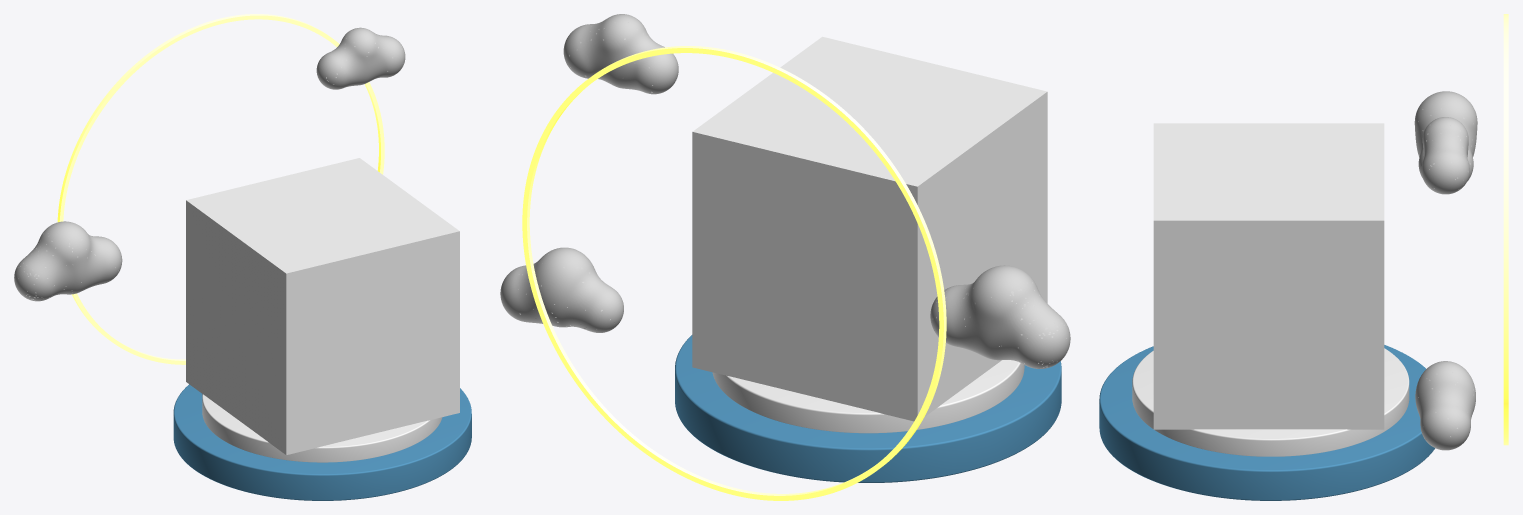
Rendered from podium_clouds.glb.
The picture shows the model from 3 angles, left to right: view 1: azimuth 30°, elevation 25°; view 2: azimuth 150°, elevation 25°; view 3: azimuth 270°, elevation 25°; orthographic projection. The views are drawn at different scales.
Visible parts, largest first — view 1: placeholder, Cylinder002, Mball012, Cylinder001, Circle; view 2: placeholder, Mball012, Cylinder002, Circle, Cylinder001; view 3: placeholder, Cylinder002, Mball012, Cylinder001, Circle.
Boxes of the visible parts, <box> form: placeholder: <box>186,158,459,455</box>; Cylinder002: <box>173,384,471,500</box>; Mball012: <box>14,27,405,301</box>; Cylinder001: <box>202,394,442,462</box>; Circle: <box>57,14,384,364</box>; placeholder: <box>692,36,1047,421</box>; Mball012: <box>500,14,1070,368</box>; Cylinder002: <box>675,335,1061,482</box>; Circle: <box>522,46,946,500</box>; Cylinder001: <box>712,360,1024,433</box>; placeholder: <box>1153,123,1384,429</box>; Cylinder002: <box>1099,345,1435,500</box>; Mball012: <box>1414,91,1477,450</box>; Cylinder001: <box>1132,348,1409,456</box>; Circle: <box>1503,14,1508,445</box>.
Bounding box in the file's own units: 2.77 × 2.1 × 1.97.
